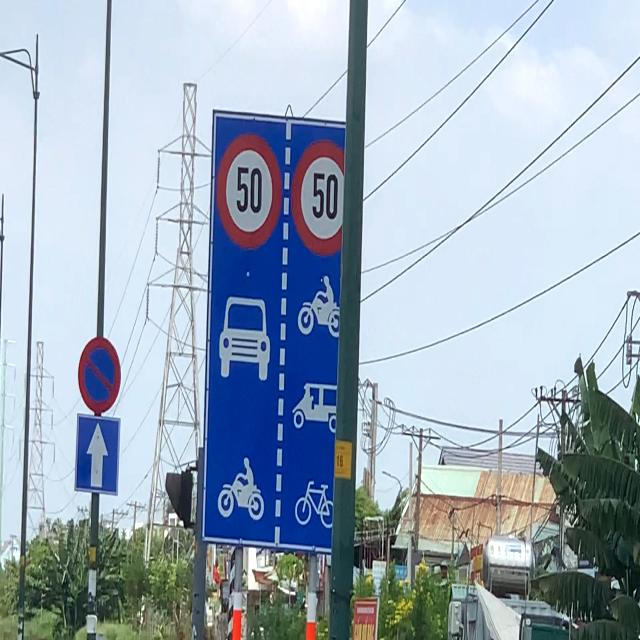P.131a: (78, 336, 123, 411)
R.407a: (74, 413, 120, 495)
